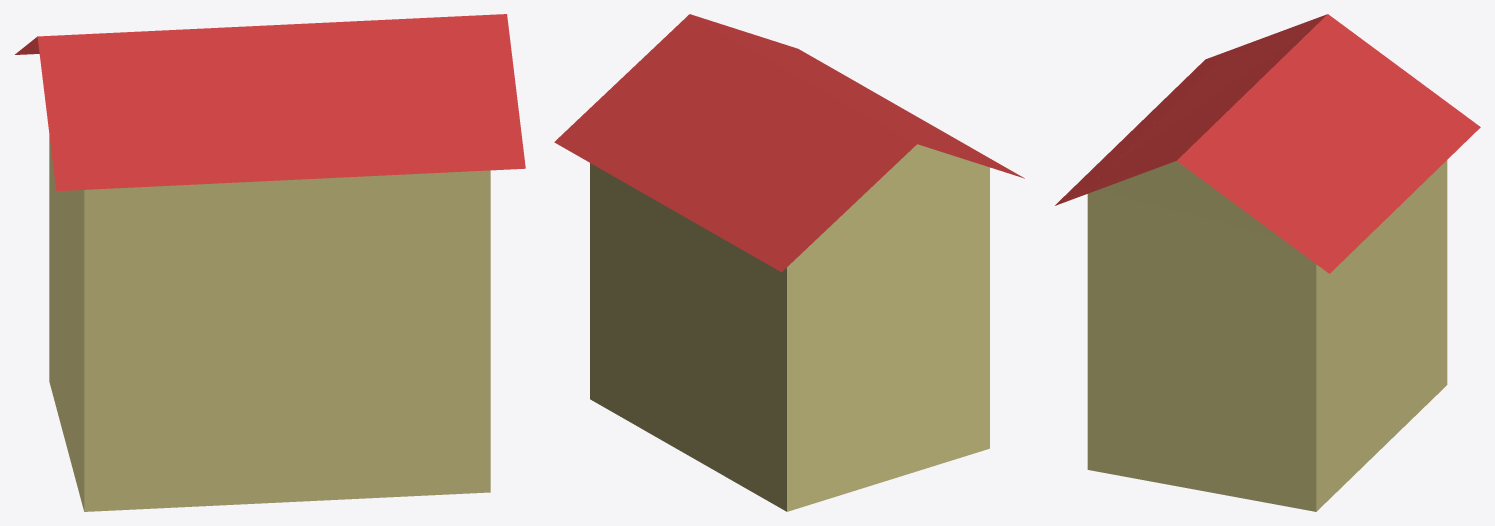
3 renders of one model, left to right at view 1: azimuth 30°, elevation 25°; view 2: azimuth 150°, elevation 25°; view 3: azimuth 270°, elevation 25°, orthographic. The views are drawn at different scales.
Size of the model in its own units: 13.78 by 12.58 by 10.96.
